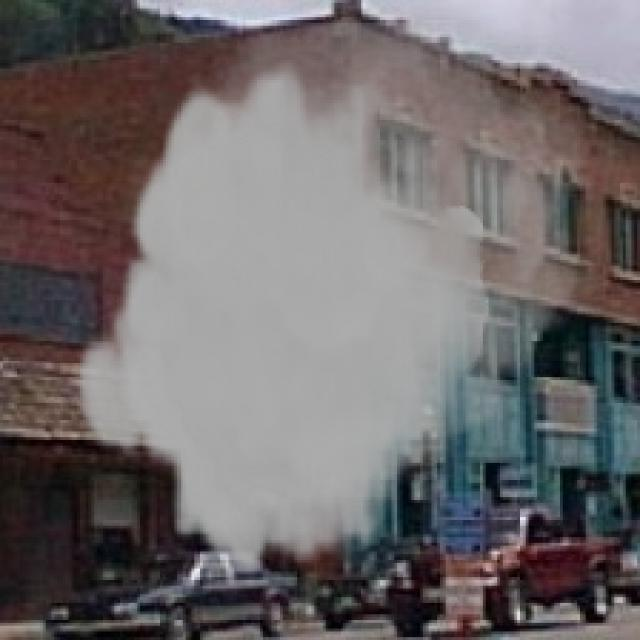Smoke: (71, 22, 603, 578)
